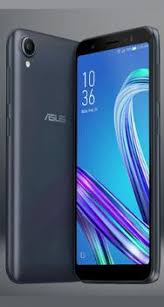asus: (1, 22, 160, 287), (67, 23, 160, 287)
